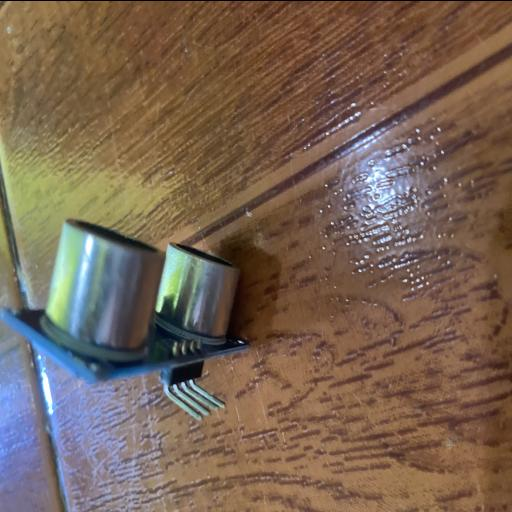Ultrasonic Sensor: (0, 214, 253, 421)
